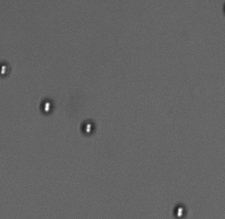Living Cell: (38, 95, 56, 116), (79, 119, 98, 138), (172, 204, 188, 218), (1, 63, 11, 78)
